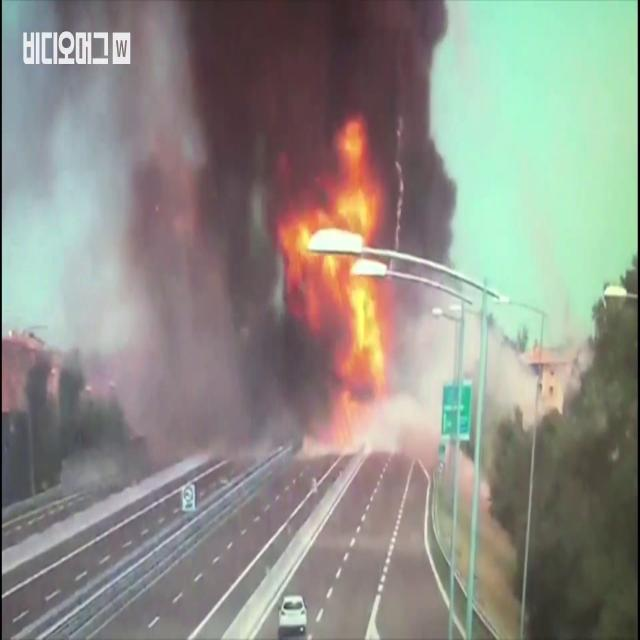explosion: (138, 0, 480, 523)
